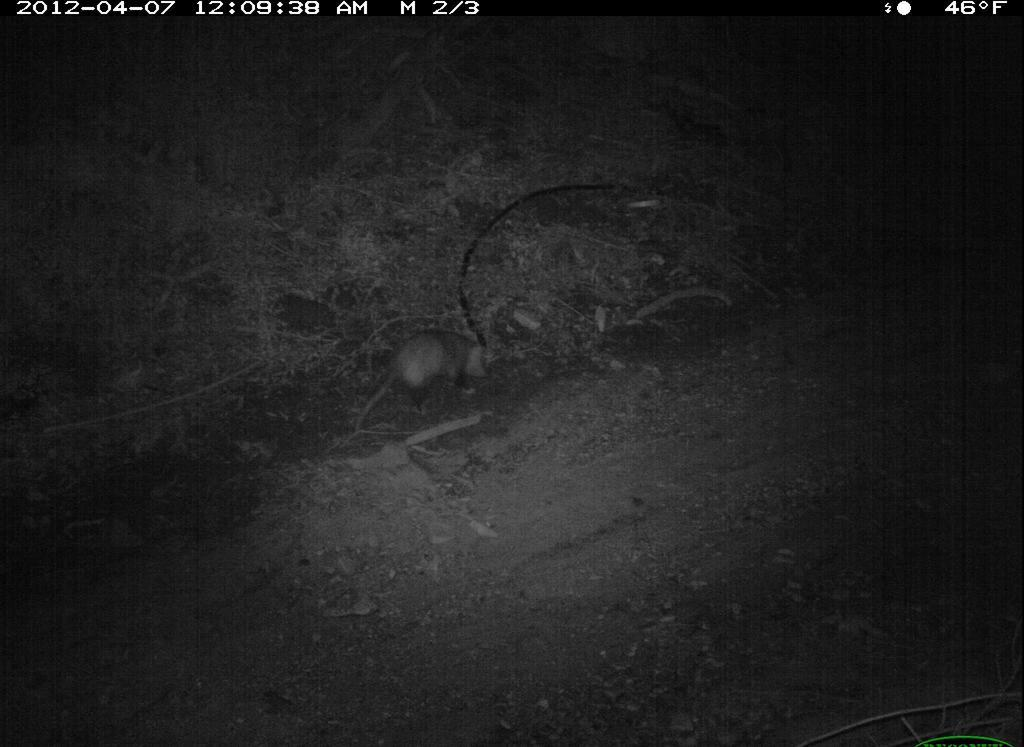opossum: (354, 329, 493, 439)
